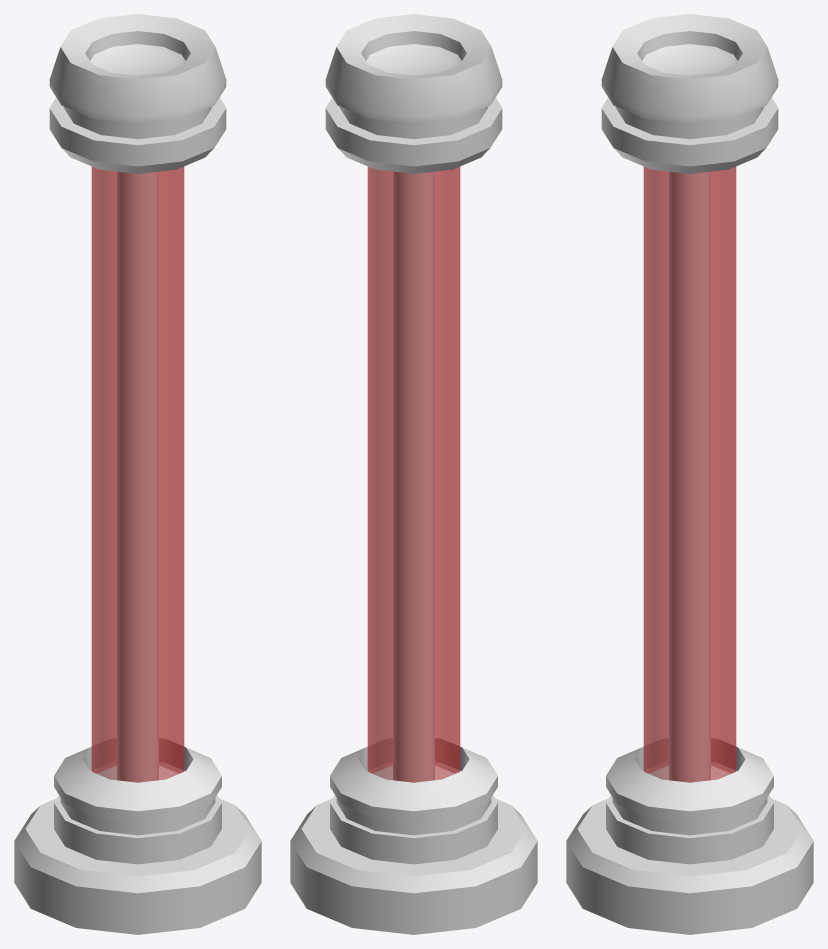
File: Tile_Pillier_Laser.FBX
3 renders of one model, left to right at view 1: azimuth 30°, elevation 25°; view 2: azimuth 150°, elevation 25°; view 3: azimuth 270°, elevation 25°, orthographic.
Parts seen in each view (by area): view 1: Cylinder023, Cylinder024; view 2: Cylinder023, Cylinder024; view 3: Cylinder023, Cylinder024.
Part boxes in pixels (box(x1,y1,x2,y2)): Cylinder023: box(14, 14, 261, 934); Cylinder024: box(91, 166, 184, 782); Cylinder023: box(290, 14, 537, 934); Cylinder024: box(367, 166, 460, 782); Cylinder023: box(566, 14, 813, 934); Cylinder024: box(643, 166, 736, 782).
Size of what is drawn, in the model's own units: 0.9546 by 3.56 by 0.9546.
